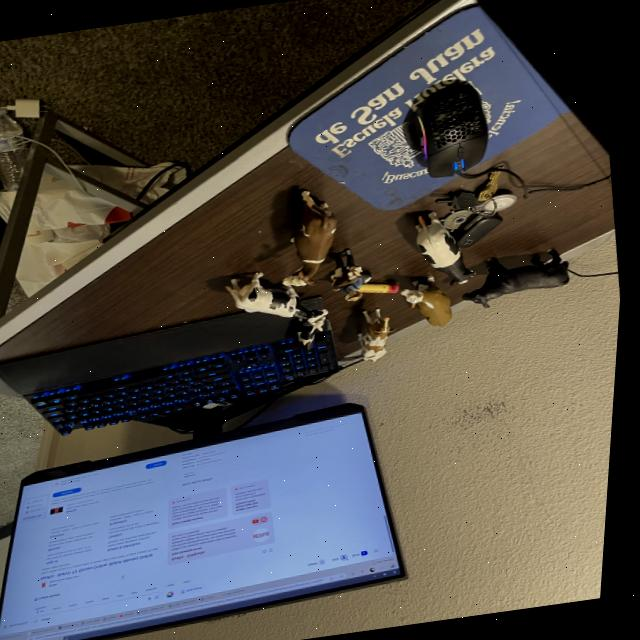cow: (224, 261, 336, 343), (458, 238, 576, 314), (405, 205, 484, 294), (283, 189, 346, 293), (402, 268, 465, 336), (359, 305, 398, 364), (300, 311, 331, 349), (328, 260, 364, 292)
person: (343, 275, 375, 305)
